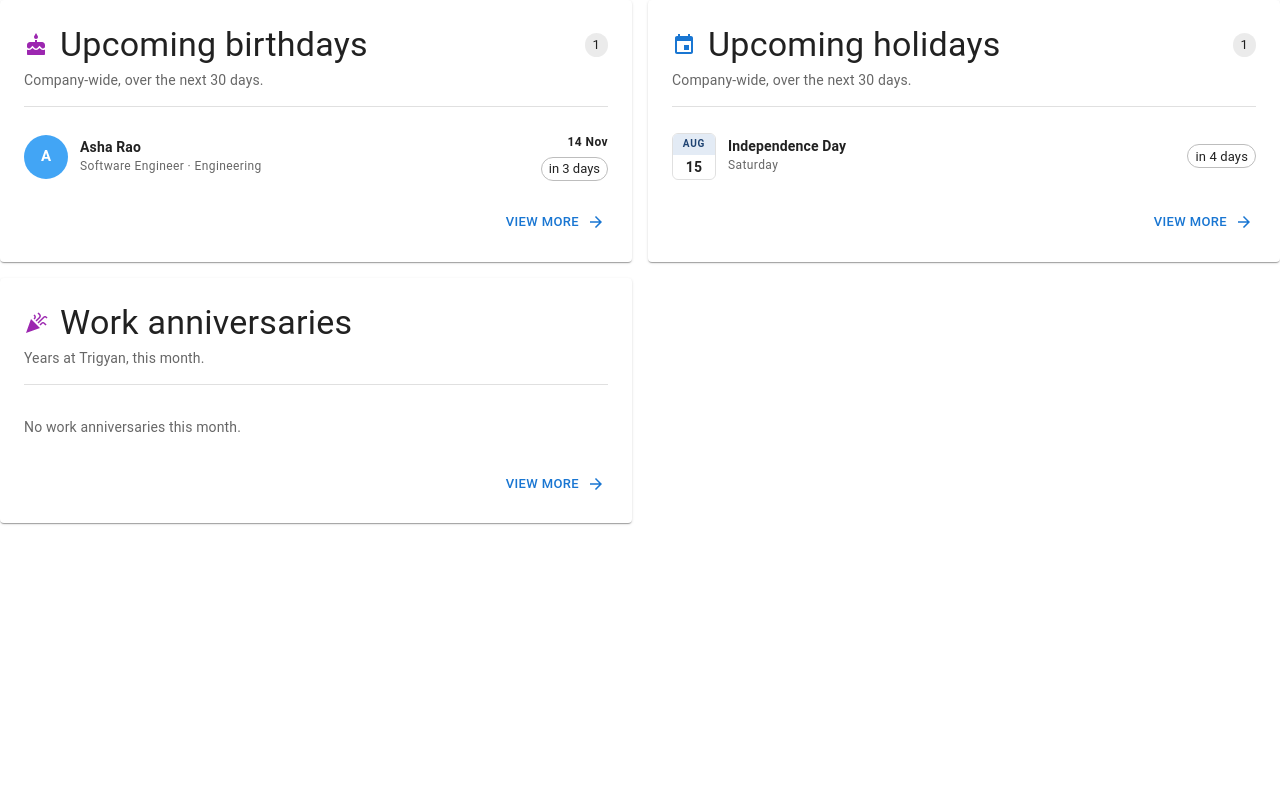
Test case: Noticeboard › opens a directory card from a birthday row, for any viewer
This screenshot has width=1280, height=800.
Click the button "A Asha Rao Software Engineer · Engineering 14 Nov in 3 days": (46, 157) [16,123,616,191]
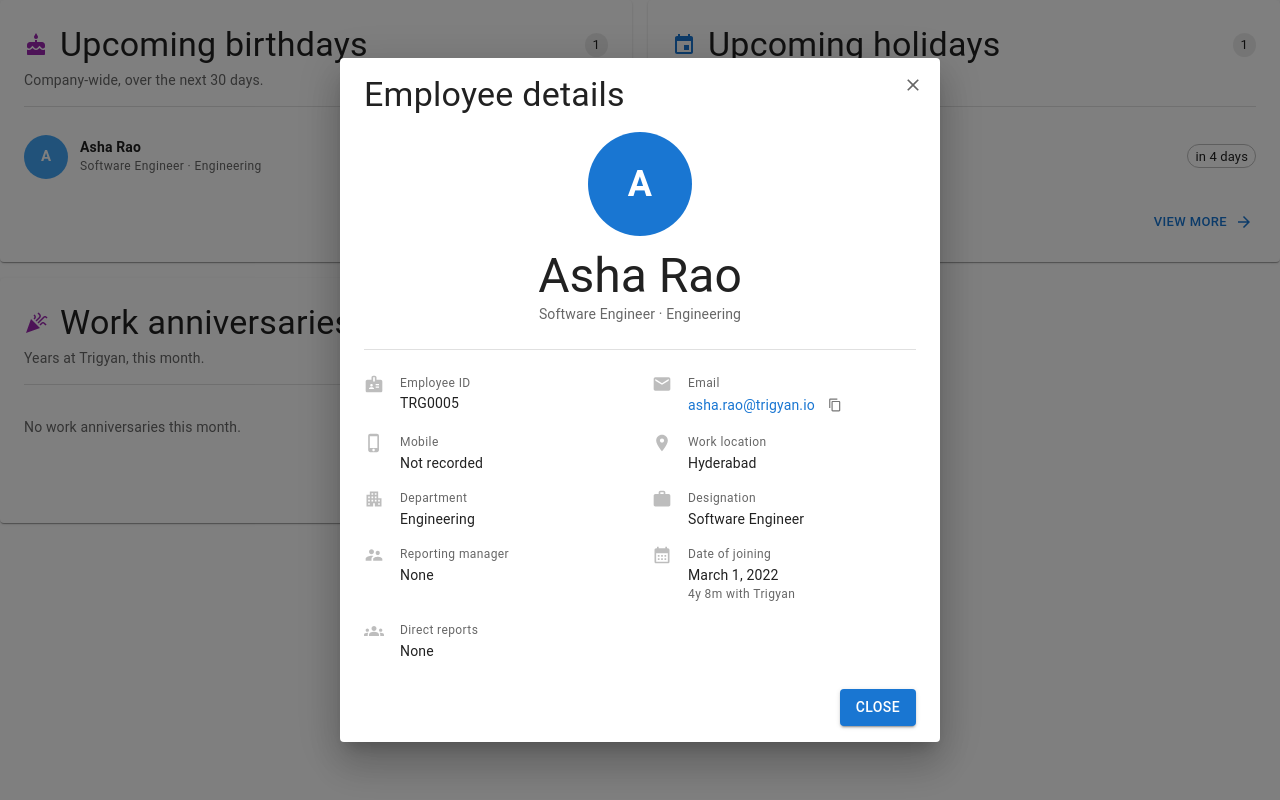
Expected: the link "asha.rao@trigyan.io" is shown, [688,395,815,415]
